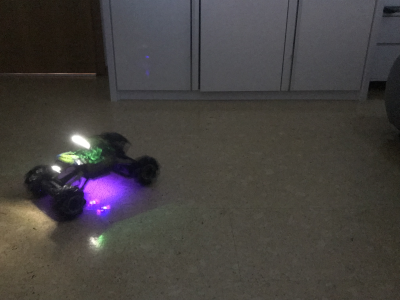remote control car: (22, 126, 160, 222)
